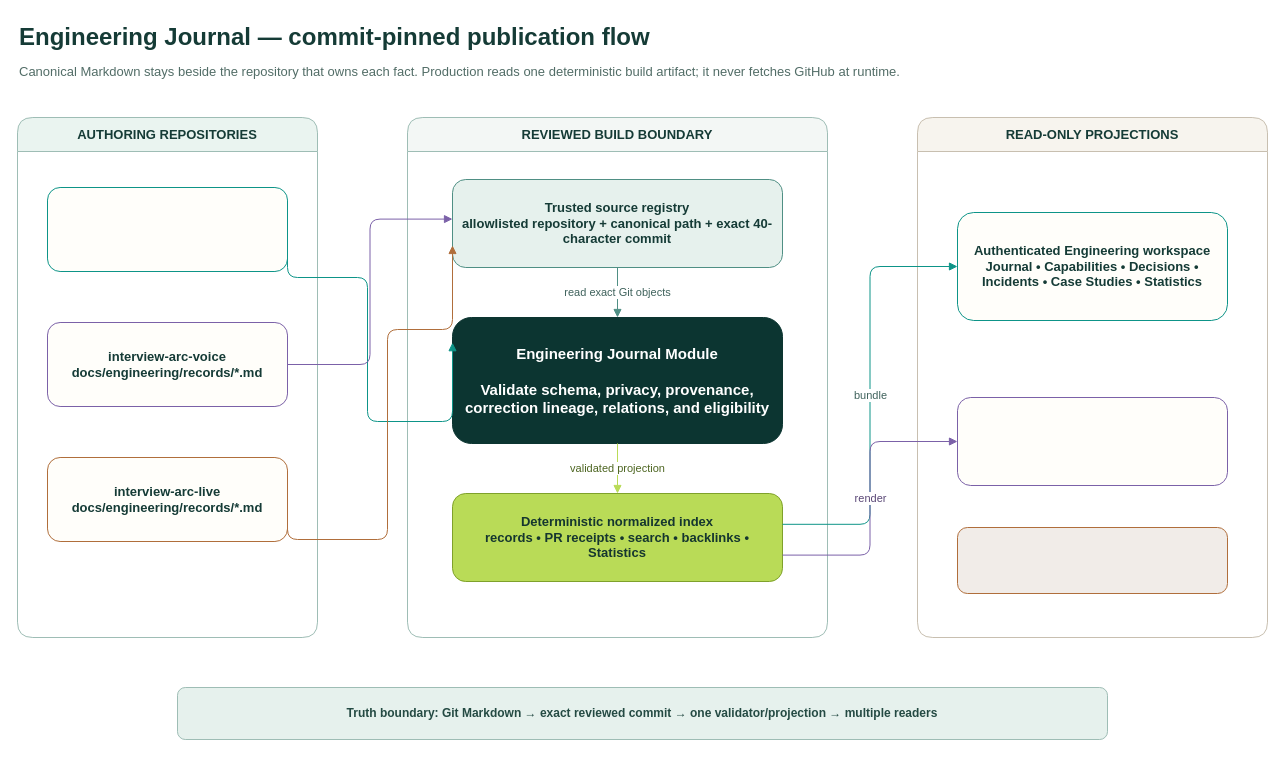
This 1285x757 diagram has some shape labels left out. Each missing label, with the centre of its shape:
interview-arc docs/engineering/records/*.md: the point at 167,229
No runtime GitHub fetch No D1 for static Journal truth: the point at 1092,560
Standalone HTML Same normalized bytes and factual content: the point at 1092,441
